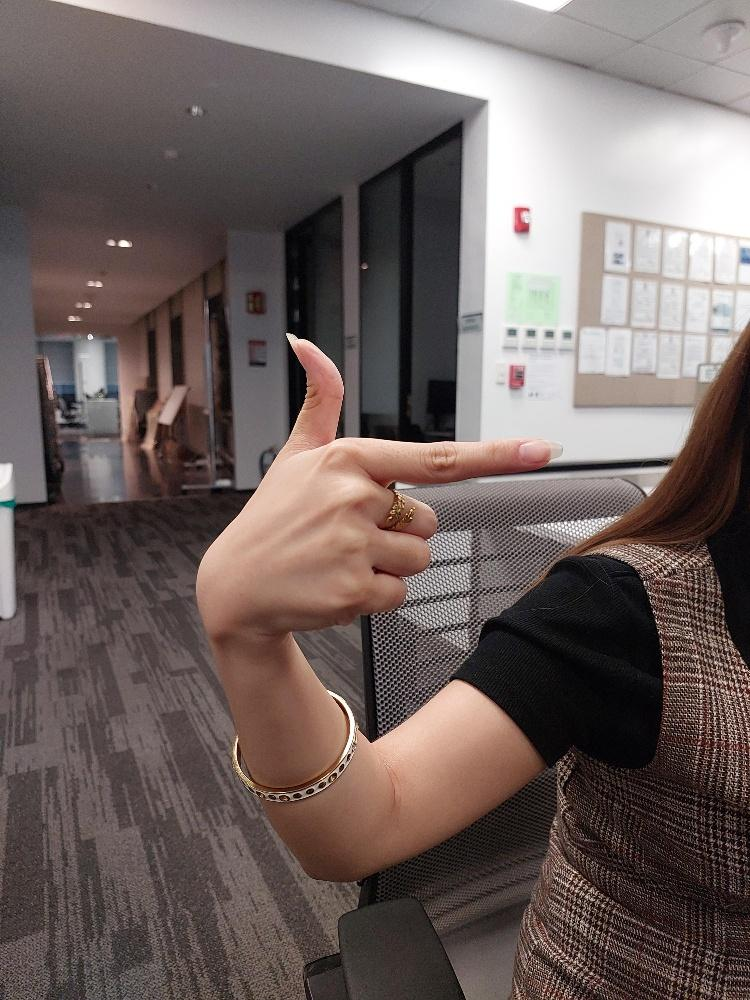g: (191, 333, 565, 646)
